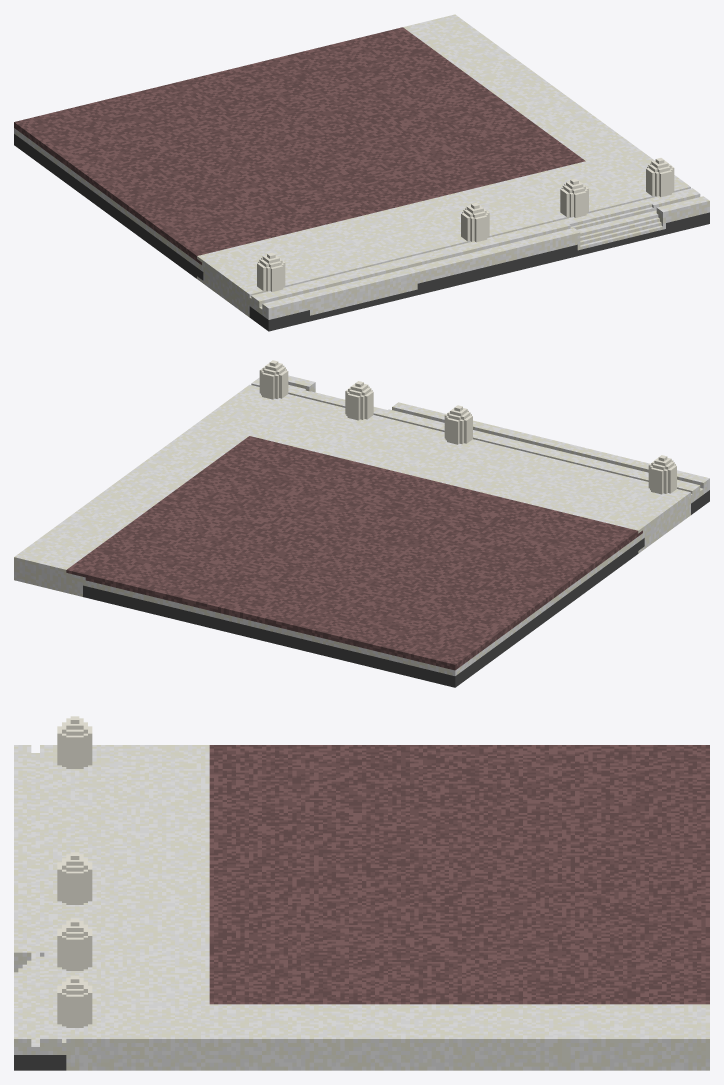
File: pathway castle1.11.obj
The picture shows the model from 3 angles, top to bottom: view 1: azimuth 30°, elevation 25°; view 2: azimuth 150°, elevation 25°; view 3: azimuth 270°, elevation 25°; orthographic projection. The views are drawn at different scales.
Size of the model in its own units: 16 by 1.9 by 16.
Materials: 1 (1 with a texture image).
